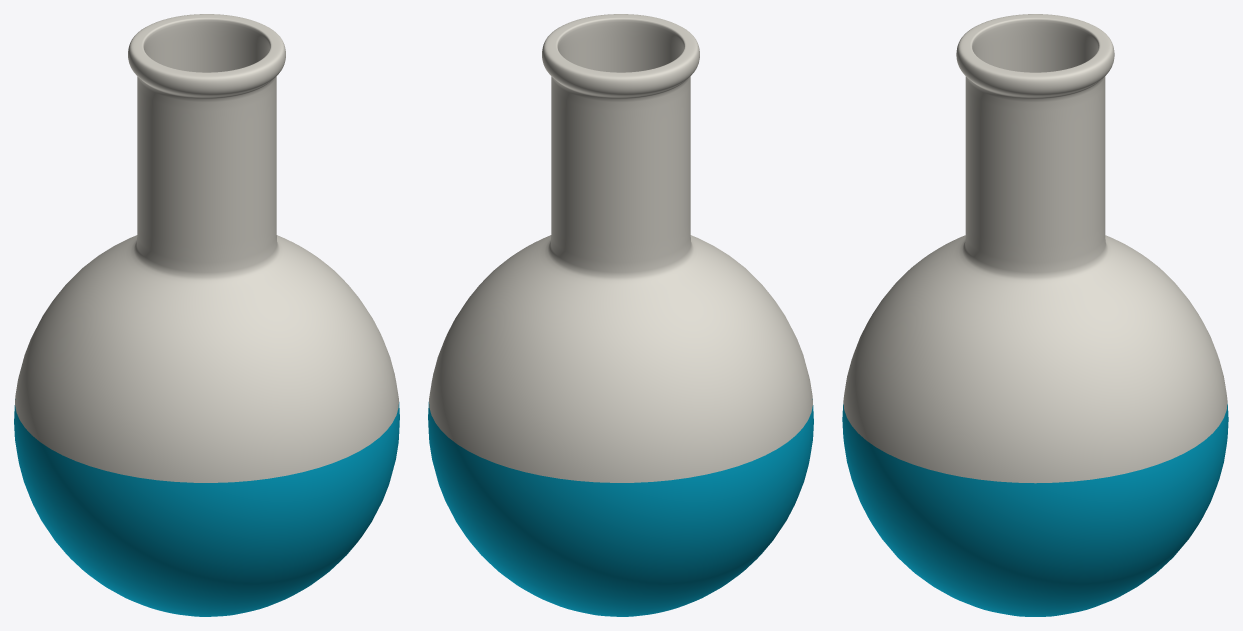
File: potion_blue.fbx
The picture shows the model from 3 angles, left to right: view 1: azimuth 30°, elevation 25°; view 2: azimuth 150°, elevation 25°; view 3: azimuth 270°, elevation 25°; orthographic projection.
Parts seen in each view (by area): view 1: 17200_Round_bottom_flask; view 2: 17200_Round_bottom_flask; view 3: 17200_Round_bottom_flask.
Boxes of the visible parts, bbox=[...] form: 17200_Round_bottom_flask: bbox=[14, 14, 399, 616]; 17200_Round_bottom_flask: bbox=[428, 14, 813, 616]; 17200_Round_bottom_flask: bbox=[842, 14, 1228, 616].
Size of the model in its own units: 1185 by 1880 by 1185.
